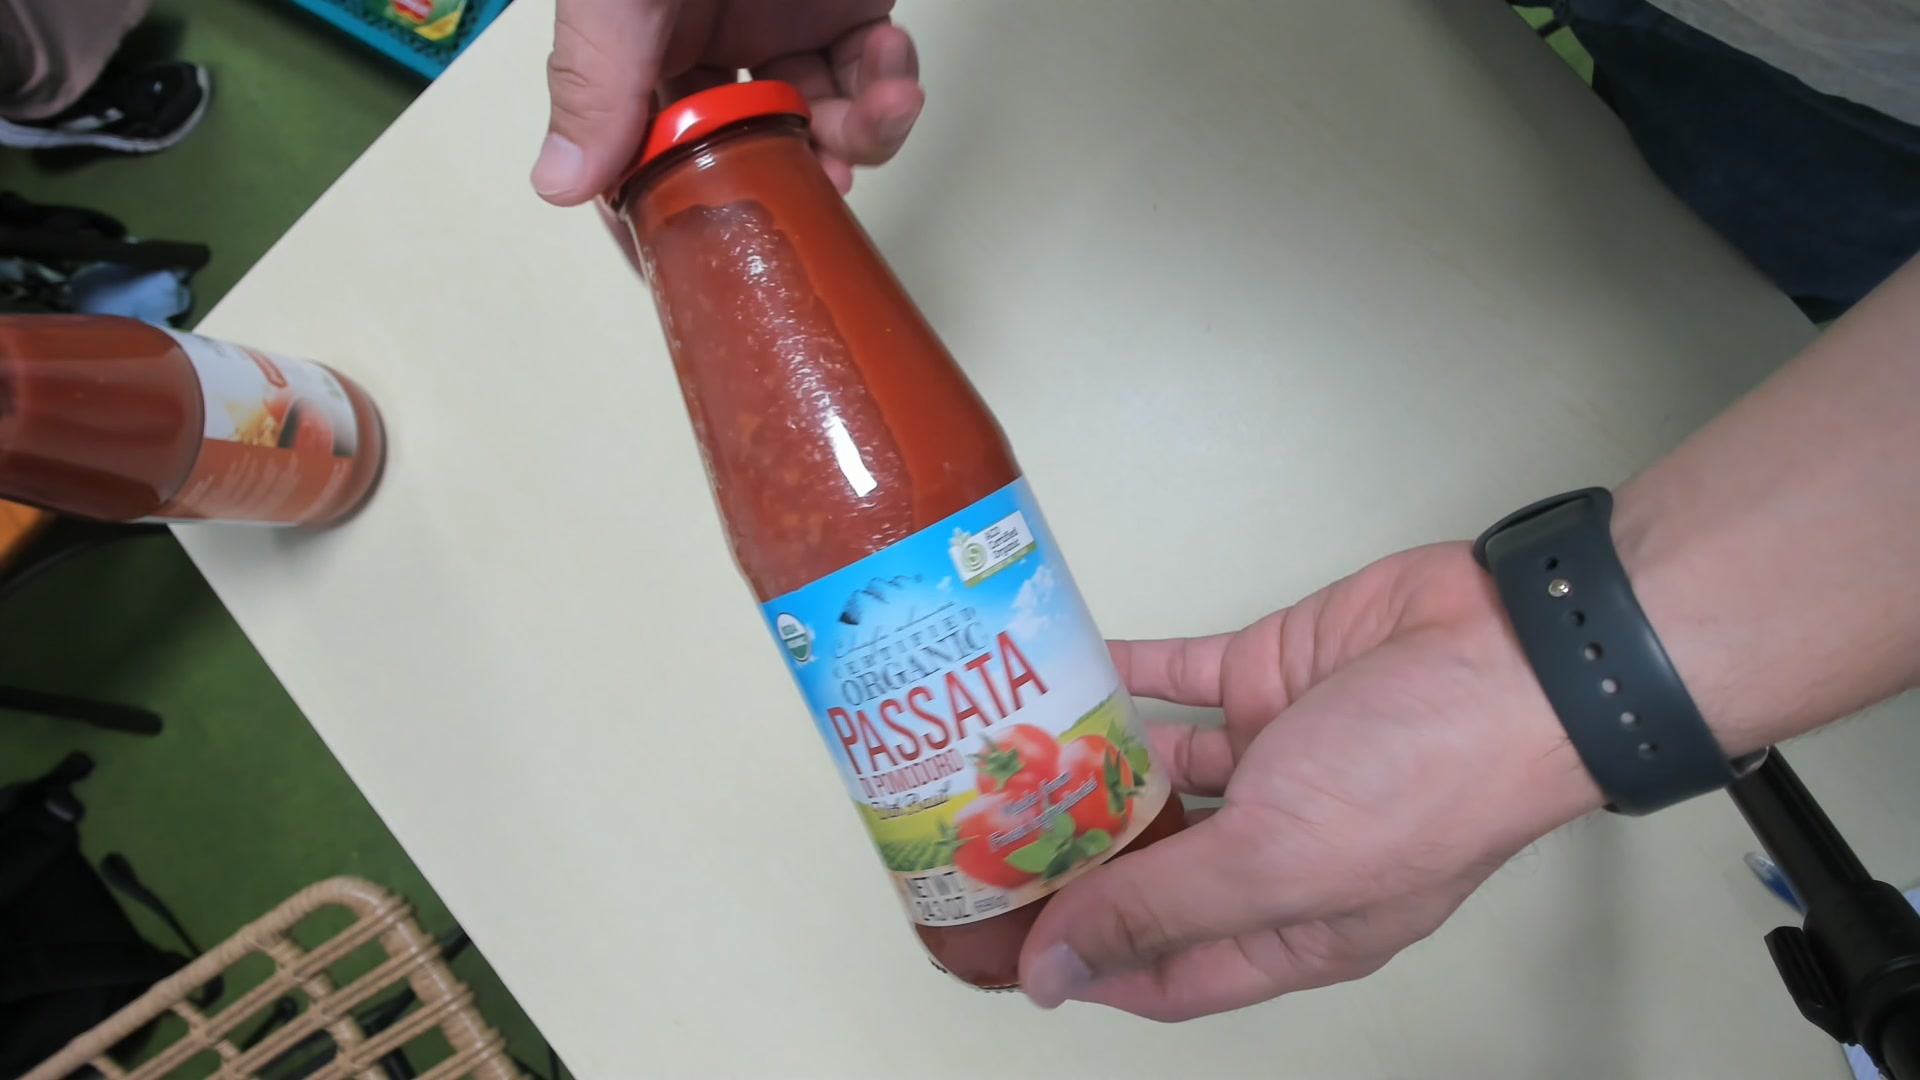PastaSauce_600-699g_NonHalal_NonHealthy: (600, 71, 1196, 997)
